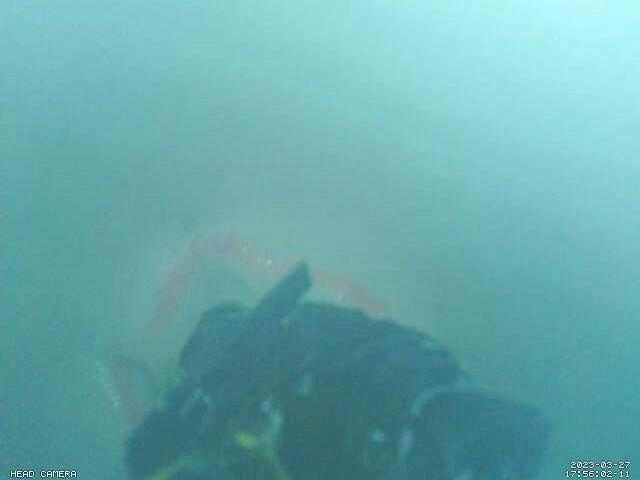head: (106, 234, 387, 429)
